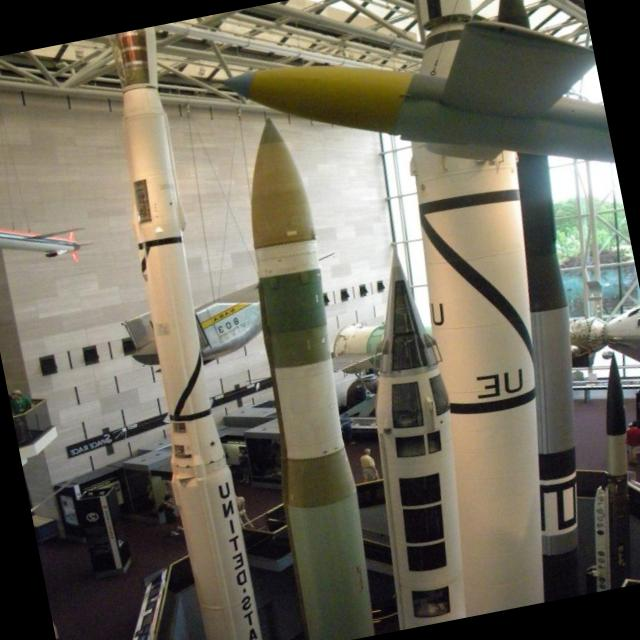rocket: (198, 99, 442, 640)
